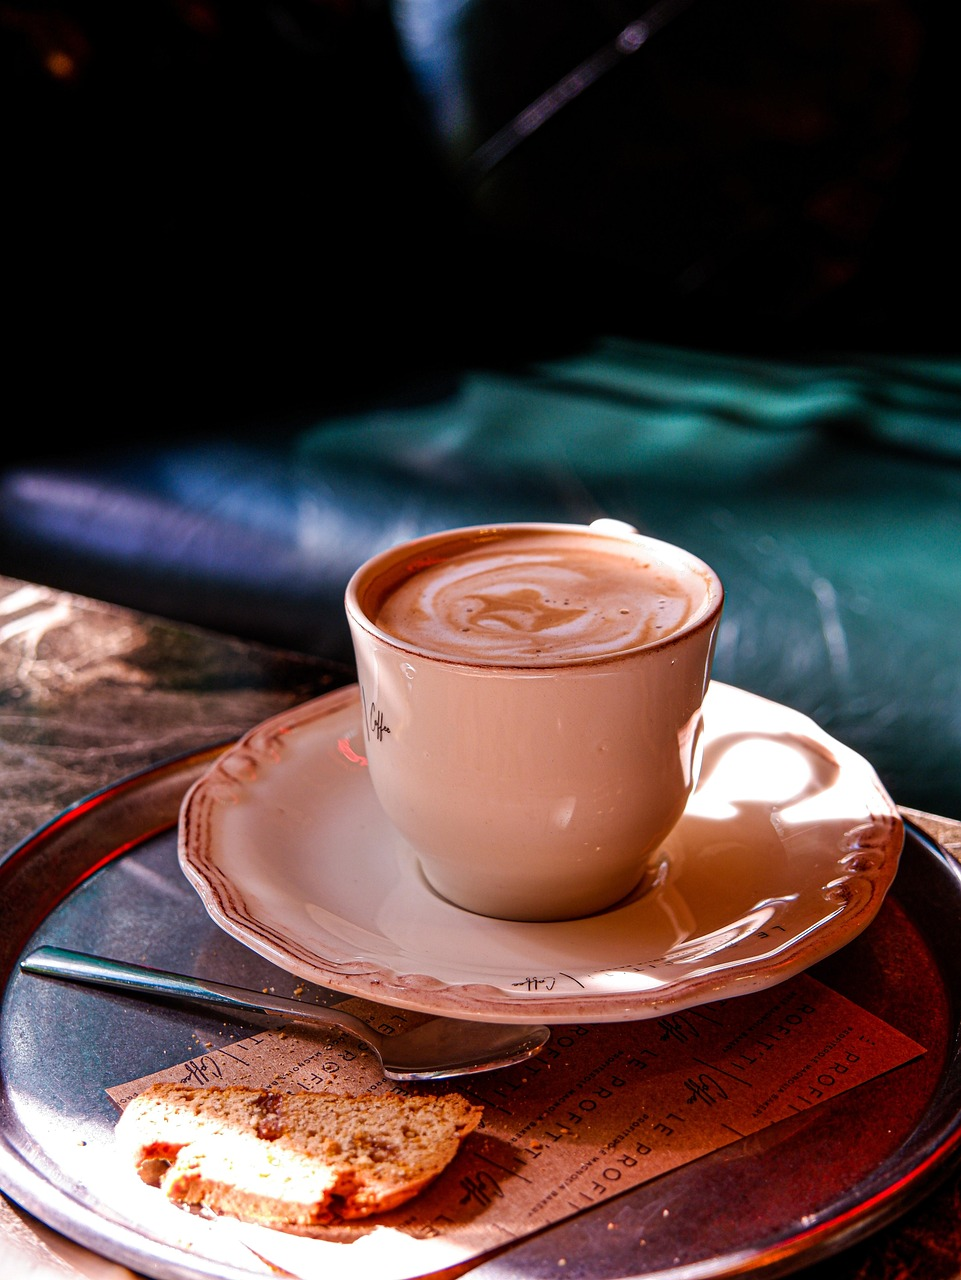mug: (298, 474, 771, 926)
